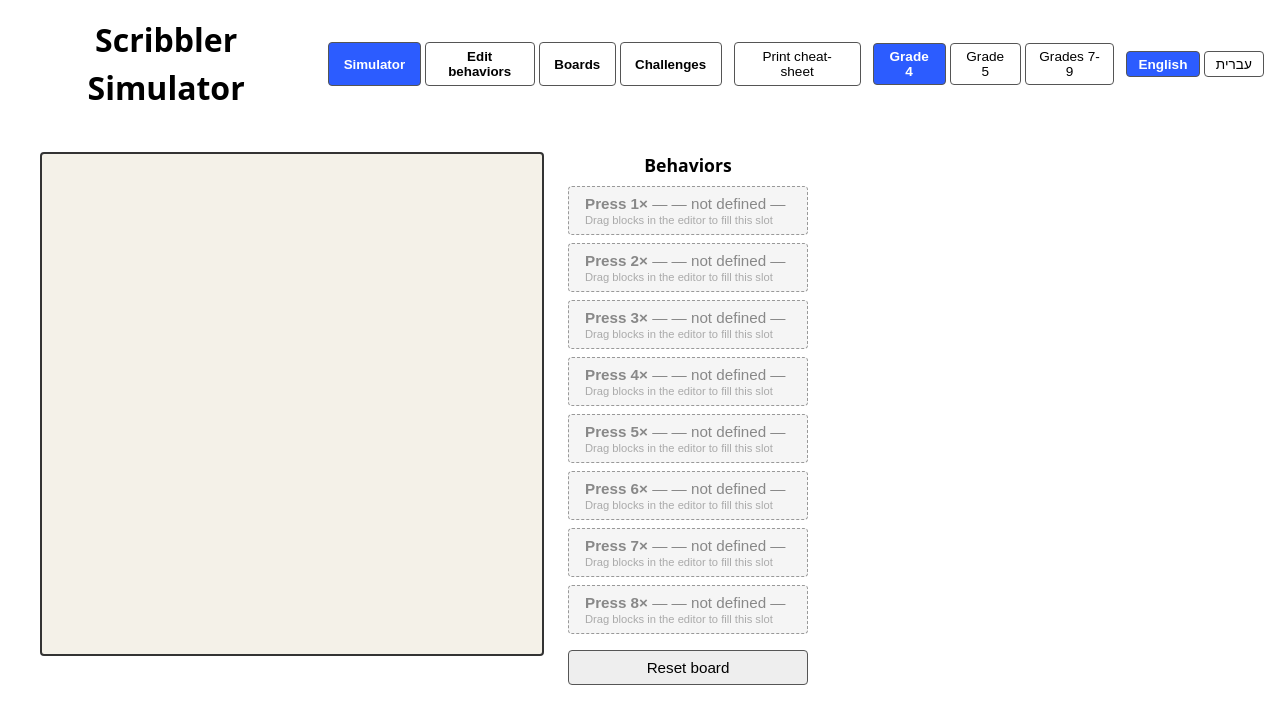
Scenario: boards-editor: full lifecycle › opens the boards panel and shows the default board
Step 1. Click the tab "Boards" → (577, 64), box [539, 42, 616, 86]
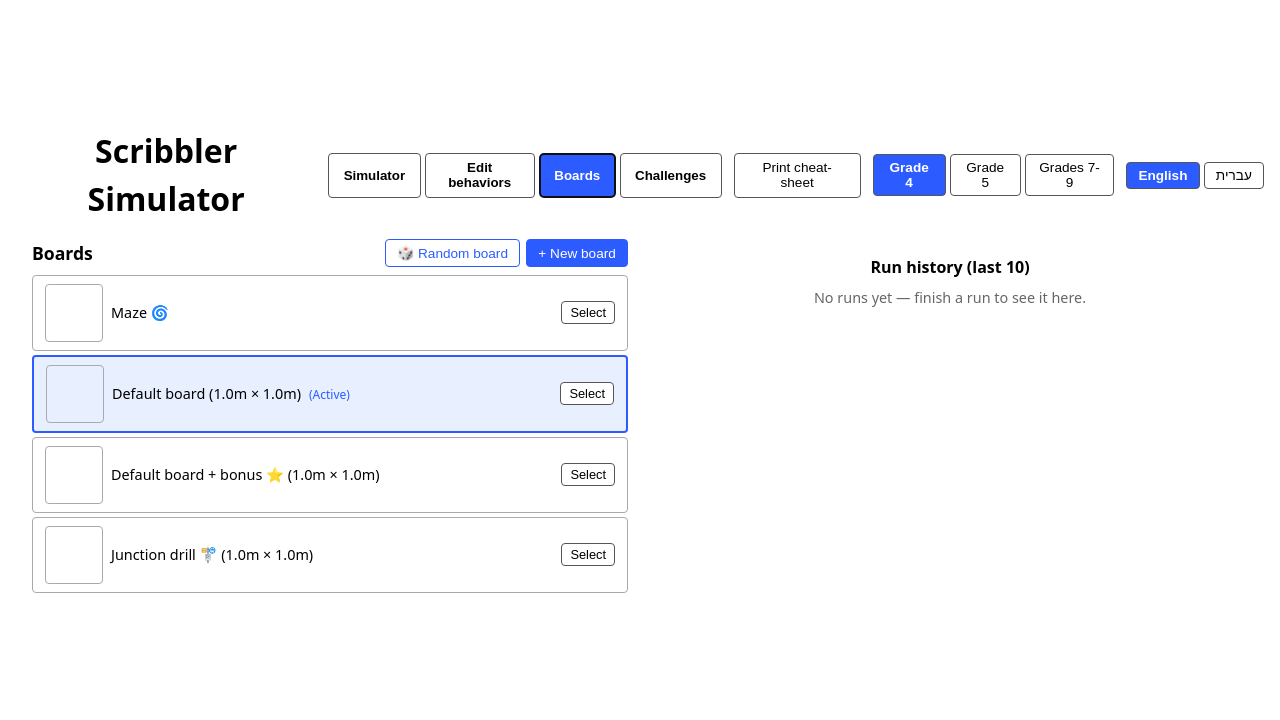
Result: the text "Default board (1.0m × 1.0m)(Active)" is shown at [112, 383, 350, 405]
